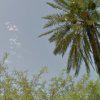Palm tree: (39, 1, 100, 82)
